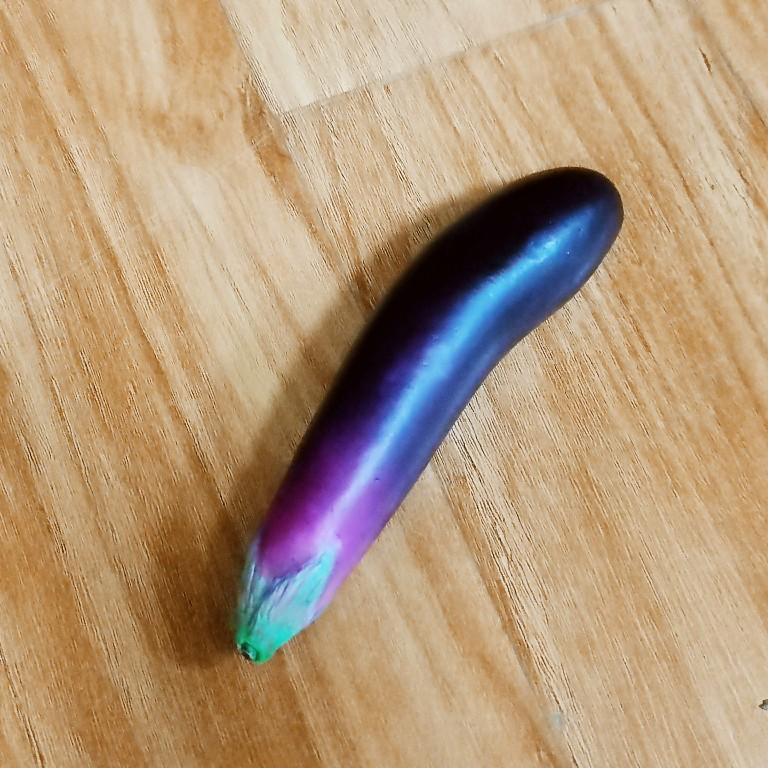fruit_eggplant: (231, 165, 629, 666)
